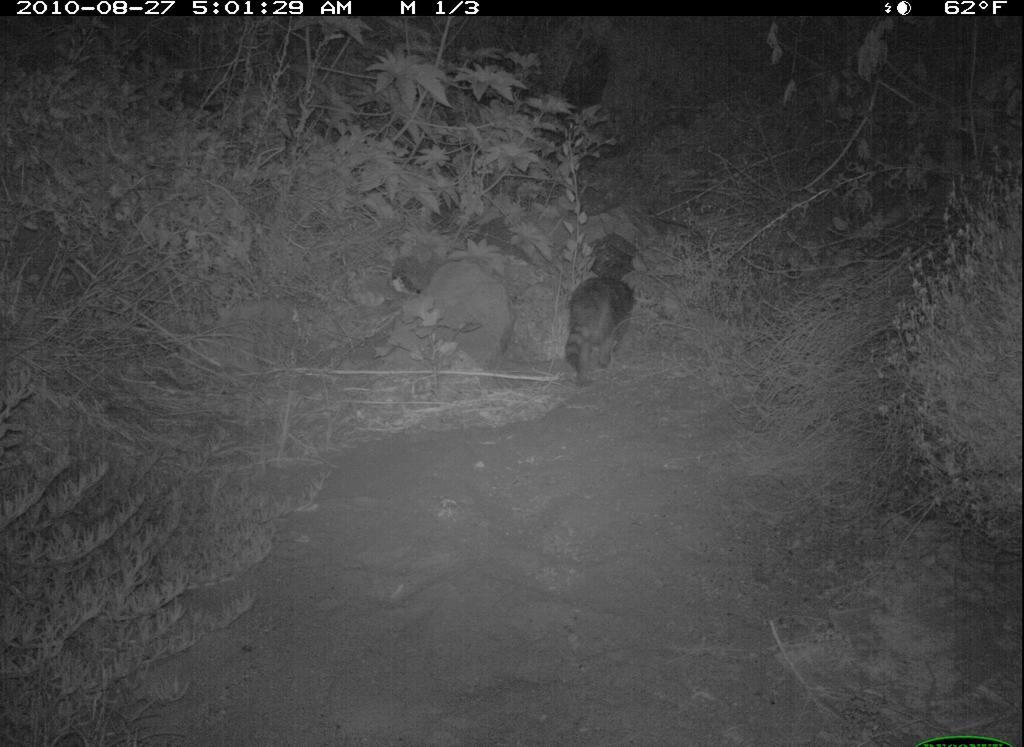raccoon: (564, 261, 649, 388)
